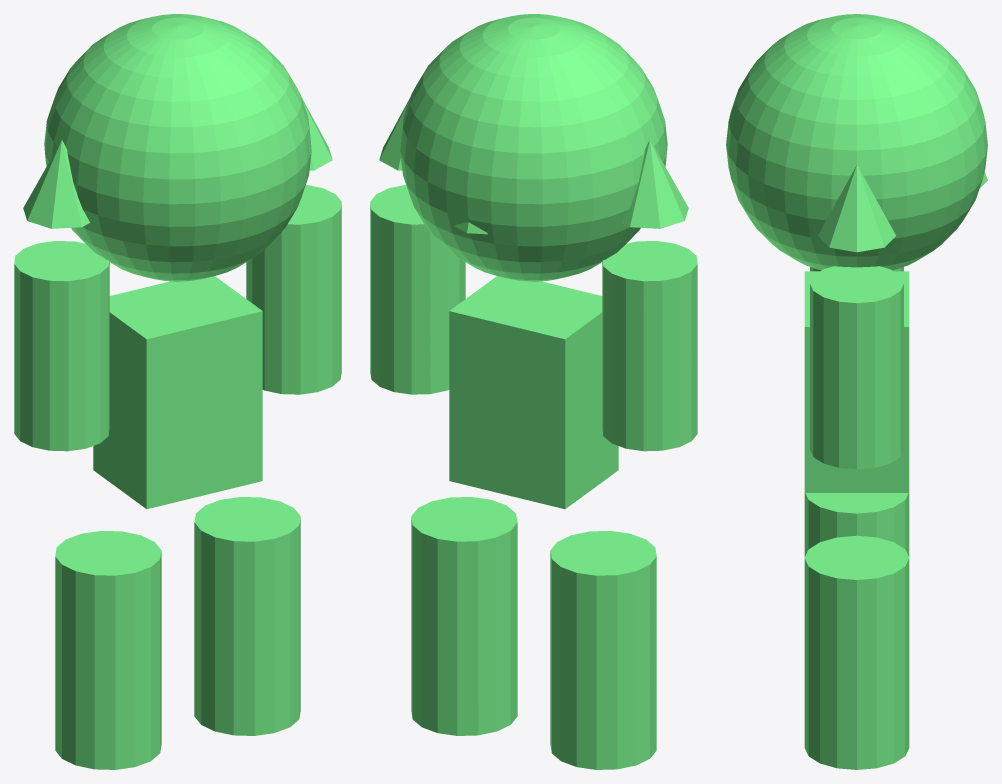
The model's file is goblin.glb.
The picture shows the model from 3 angles, left to right: view 1: azimuth 30°, elevation 25°; view 2: azimuth 150°, elevation 25°; view 3: azimuth 270°, elevation 25°; orthographic projection. The views are drawn at different scales.
Visible parts, largest first — view 1: Sphere, Cube, Cylinder.001, Cylinder, Cylinder.003, Cylinder.002, Cone.001, Cone; view 2: Sphere, Cube, Cylinder.001, Cylinder, Cylinder.003, Cylinder.002, Cone.001, Cone; view 3: Sphere, Cylinder, Cylinder.002, Cube, Cylinder.001, Cone.
Boxes of the visible parts, x1,y1,x2,y2 form: Sphere: [44, 14, 311, 281]; Cube: [93, 276, 262, 509]; Cylinder.001: [55, 531, 161, 769]; Cylinder: [194, 497, 300, 735]; Cylinder.003: [14, 241, 109, 451]; Cylinder.002: [246, 184, 341, 394]; Cone.001: [23, 140, 89, 228]; Cone: [302, 98, 332, 170]; Sphere: [400, 14, 667, 281]; Cube: [449, 276, 618, 509]; Cylinder.001: [550, 531, 656, 769]; Cylinder: [411, 497, 517, 735]; Cylinder.003: [602, 241, 697, 451]; Cylinder.002: [370, 184, 465, 394]; Cone.001: [622, 140, 688, 228]; Cone: [379, 98, 409, 170]; Sphere: [726, 14, 987, 270]; Cylinder: [804, 535, 909, 769]; Cylinder.002: [810, 266, 903, 469]; Cube: [804, 271, 909, 492]; Cylinder.001: [804, 493, 909, 556]; Cone: [818, 165, 895, 252].
Size of the model in its own units: 1.36 by 2.9 by 1.
